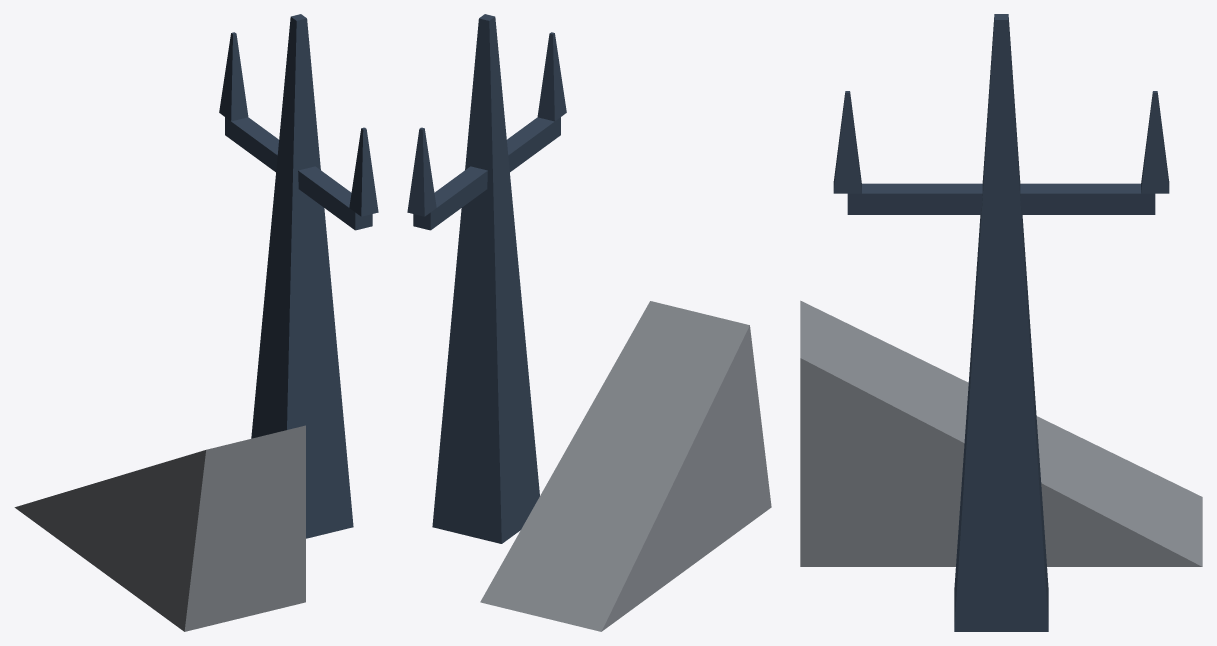
Rendered from TG_Crest.glb.
3 renders of one model, left to right at view 1: azimuth 30°, elevation 25°; view 2: azimuth 150°, elevation 25°; view 3: azimuth 270°, elevation 25°, orthographic. The views are drawn at different scales.
Parts seen in each view (by area): view 1: TG_Crest__tooth, TG_Crest__barb; view 2: TG_Crest__tooth, TG_Crest__barb; view 3: TG_Crest__tooth, TG_Crest__barb.
Part boxes in pixels (box(x1,y1,x2,y2)): TG_Crest__tooth: box(14, 425, 305, 631); TG_Crest__barb: box(219, 14, 378, 538); TG_Crest__tooth: box(480, 301, 771, 631); TG_Crest__barb: box(407, 14, 566, 543); TG_Crest__tooth: box(800, 300, 1202, 566); TG_Crest__barb: box(833, 14, 1169, 631).
Size of the model in its own units: 2.7 by 5.55 by 3.4.
